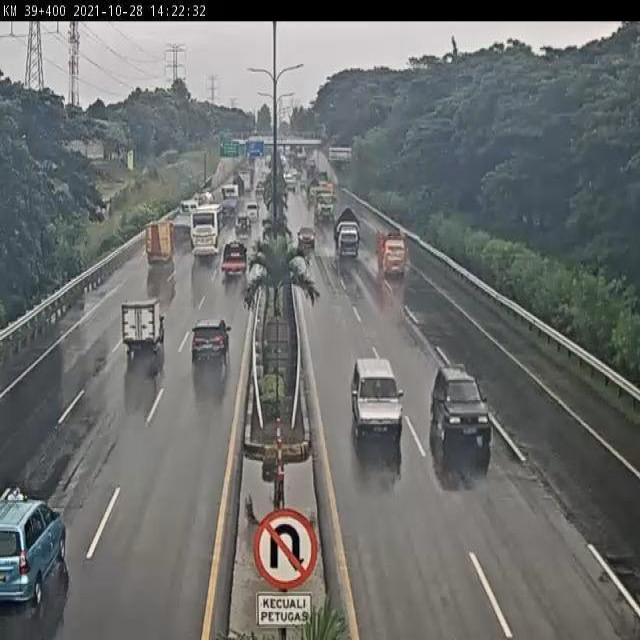big bus: (189, 205, 224, 258)
car: (0, 492, 68, 611), (428, 359, 493, 448), (349, 355, 404, 440), (191, 318, 230, 362), (233, 212, 253, 239), (297, 226, 316, 250)
truck-m-: (335, 207, 362, 260)
truck-s-: (121, 296, 165, 352), (377, 219, 410, 277), (144, 221, 176, 268), (220, 240, 247, 275)
